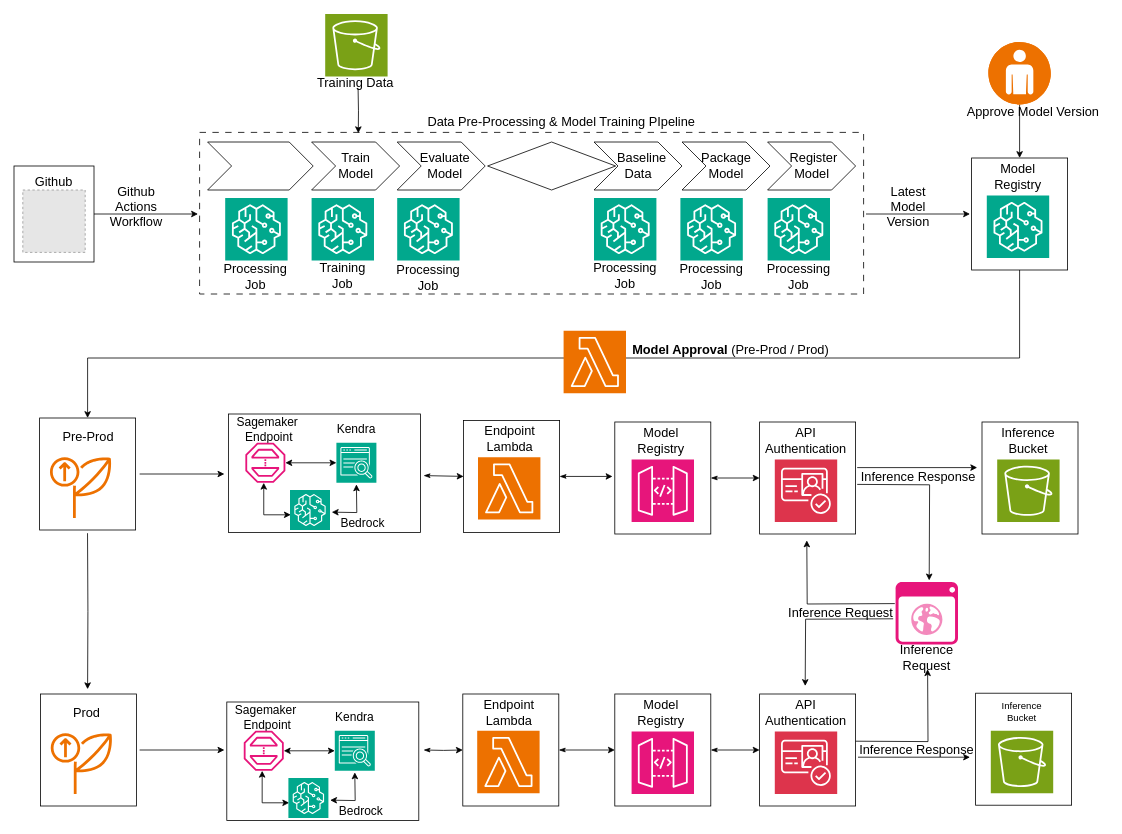
Image size: 1122x834. Some labels were removed from this diagram. Grey dashed boxes stand in for pictures. Here are the shapes that lost their labels. From the top down, the centre of each, then its label:
the point at 260,165: Pre-Process Data
the point at 551,165: Model Evaluation
